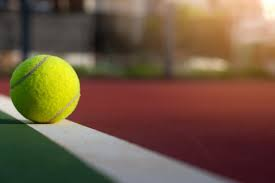tennis_ball: (9, 54, 80, 125)
